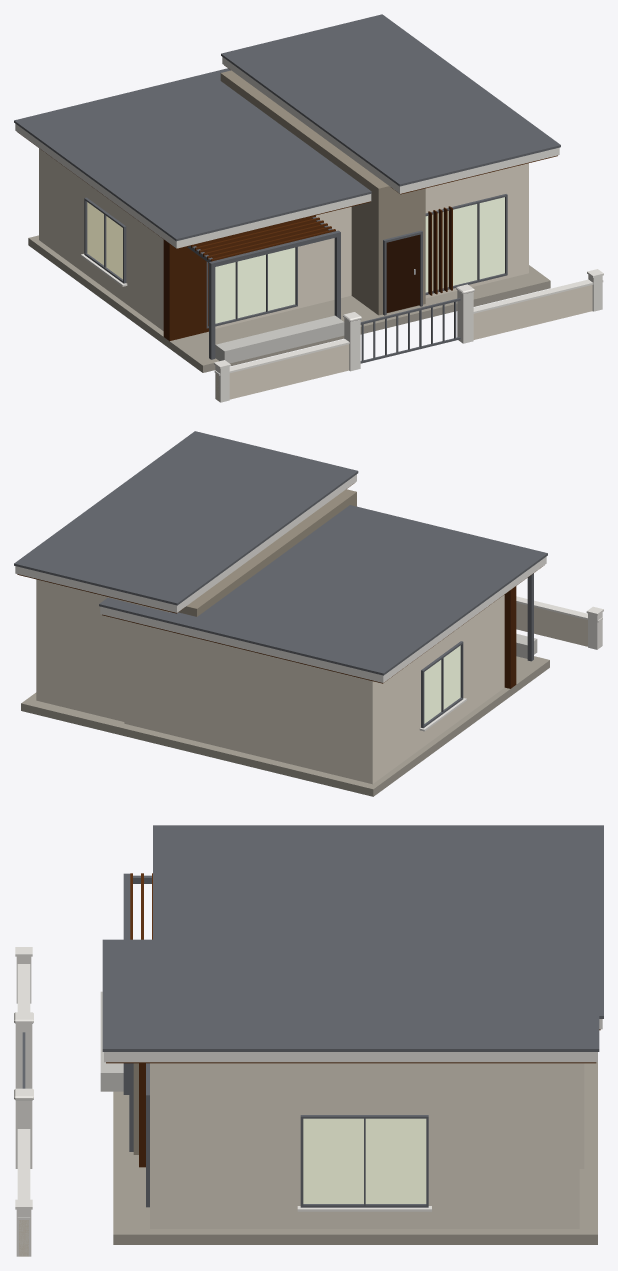
The model's file is SM_Villa_Moderne.fbx.
3 views of the same model, one above another, from view 1: azimuth 30°, elevation 25°; view 2: azimuth 150°, elevation 25°; view 3: azimuth 270°, elevation 25° (orthographic). The views are drawn at different scales.
Visible parts, largest first — view 1: SM_Villa_Moderne; view 2: SM_Villa_Moderne; view 3: SM_Villa_Moderne.
Boxes of the visible parts, x1,y1,x2,y2 form: SM_Villa_Moderne: (14, 14, 603, 402); SM_Villa_Moderne: (14, 431, 603, 796); SM_Villa_Moderne: (14, 825, 603, 1256).
Bounding box in the file's own units: 1346 × 484 × 1290.
